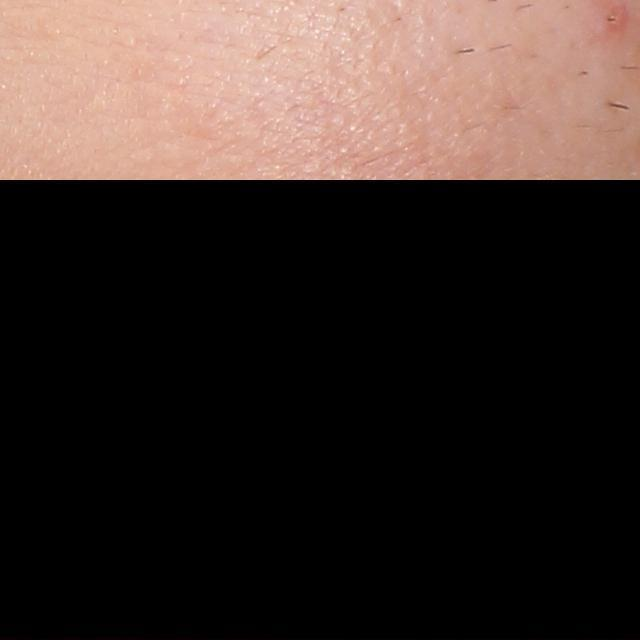papule: (601, 0, 629, 35)
